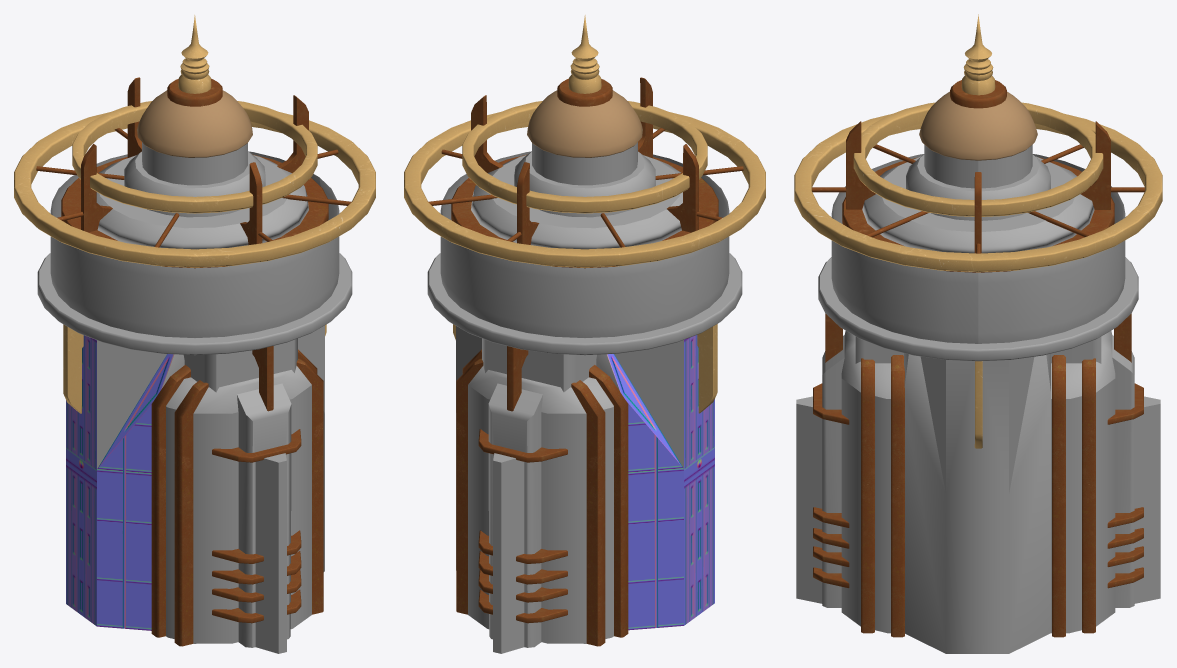
The model's file is Tower_06.fbx.
3 views of the same model, side by side, from view 1: azimuth 30°, elevation 25°; view 2: azimuth 150°, elevation 25°; view 3: azimuth 270°, elevation 25° (orthographic).
Visible parts, largest first — view 1: Tower_06; view 2: Tower_06; view 3: Tower_06.
Part boxes in pixels (x1,y1,x2,y2): Tower_06: (14,15,375,653); Tower_06: (404,15,765,653); Tower_06: (794,14,1162,653).
Bounding box in the file's own units: 422 × 733 × 419.
